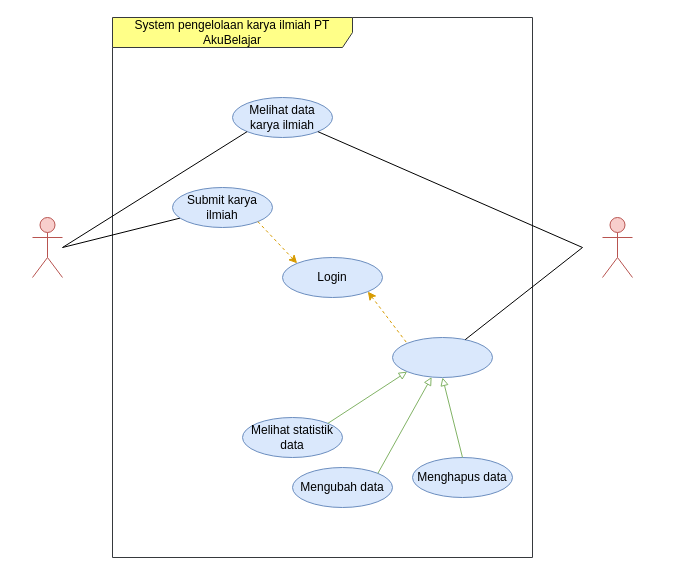
Some shapes in this 673 by 575 pixel diagram are drawn without their labels. The shapes that lost their labels are listed below. From the top down, each one's centre as x and y in pixels, then its label:
At [47,247]: "Mahasiswa".
At [617,247]: "Program Studi".
At [442,357]: "Mengolah data karya ilmiah".
